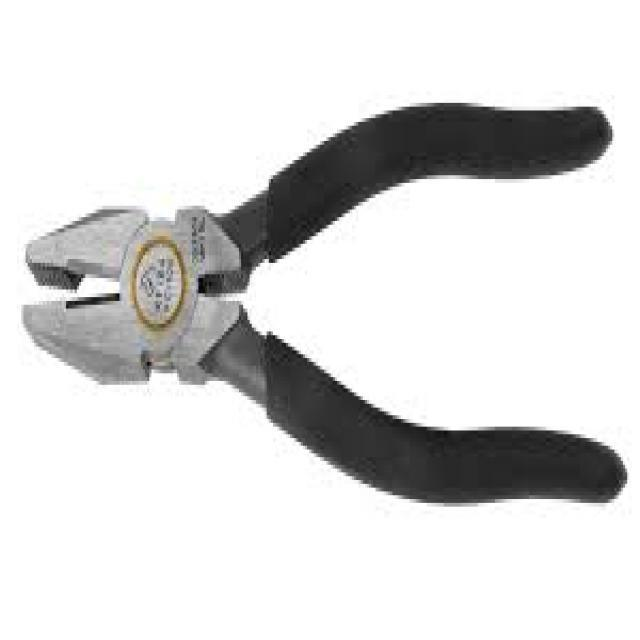pliers: (15, 93, 632, 514)
